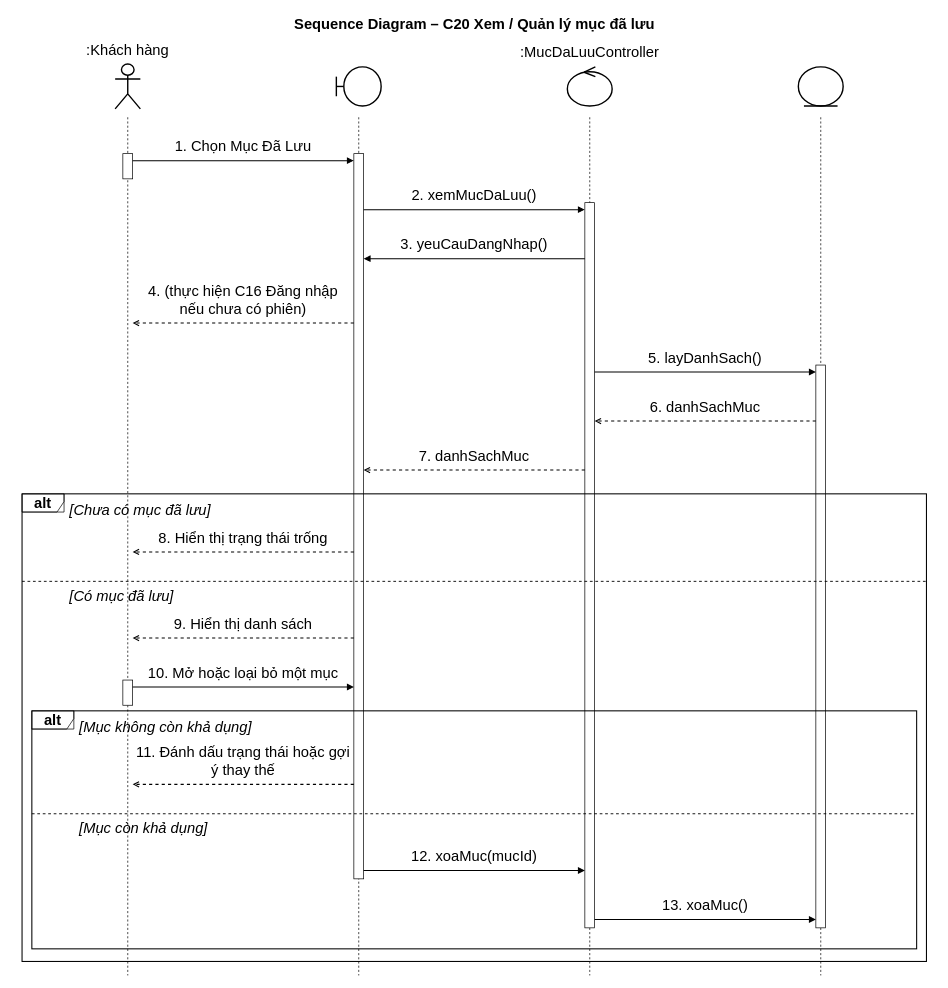
Image size: 948x988. Some labels were removed from this diagram. The box of each missing label's shape, as (x1, y1, x2, y2) in pixels:
:MucDaLuu: (797, 66, 844, 106)
:MucDaLuuPage: (335, 66, 382, 106)
